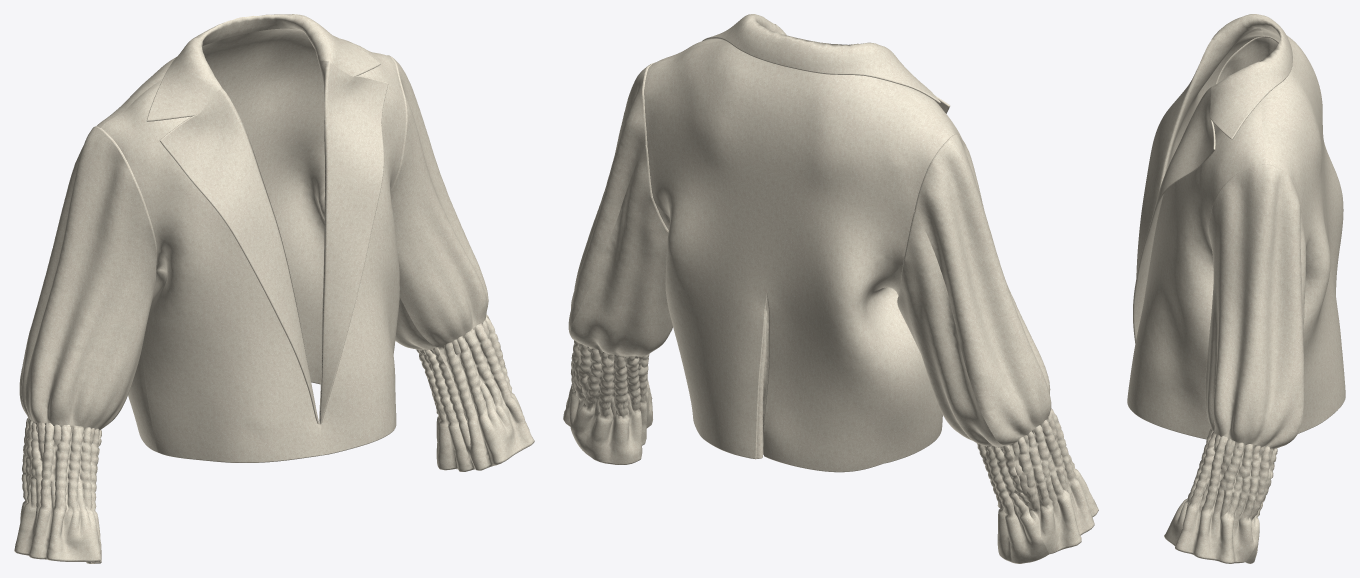
Rendered from Look 2_1.gltf.
The picture shows the model from 3 angles, left to right: view 1: azimuth 30°, elevation 25°; view 2: azimuth 150°, elevation 25°; view 3: azimuth 270°, elevation 25°; orthographic projection. The views are drawn at different scales.
Parts seen in each view (by area): view 1: Cloth; view 2: Cloth, Pattern_3338019; view 3: Cloth.
Part boxes in pixels (x1=…): Cloth: x1=14, y1=14, x2=534, y2=563; Cloth: x1=563, y1=14, x2=1098, y2=563; Pattern_3338019: x1=756, y1=298, x2=768, y2=458; Cloth: x1=1127, y1=14, x2=1345, y2=563.
Bounding box in the file's own units: 0.9148 × 0.828 × 0.3759.
3 materials, 3 textured.
